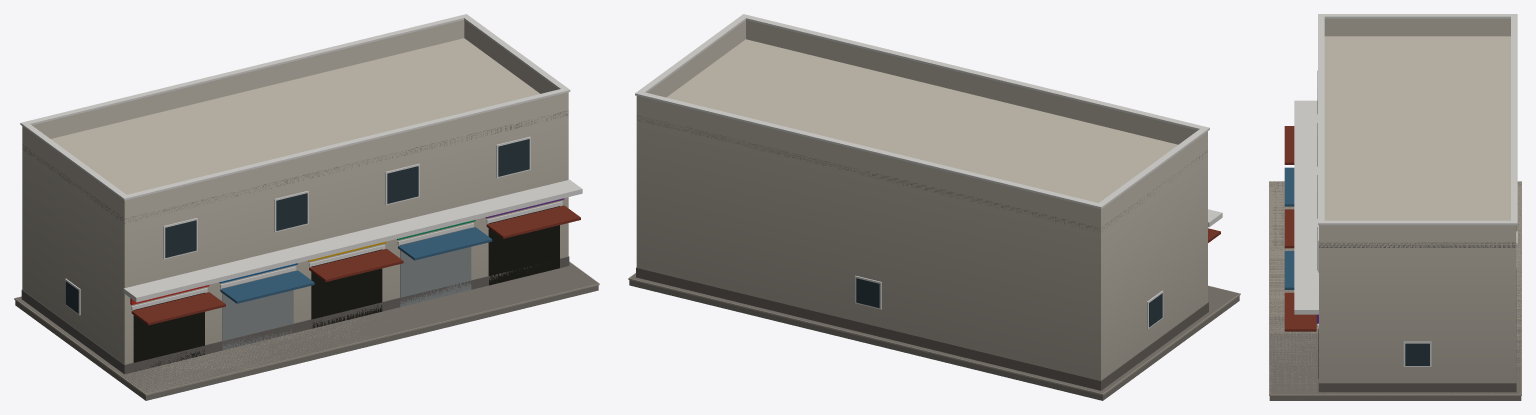
The model's file is ns_shops2_lod1.glb.
The picture shows the model from 3 angles, left to right: view 1: azimuth 30°, elevation 25°; view 2: azimuth 150°, elevation 25°; view 3: azimuth 270°, elevation 25°; orthographic projection. The views are drawn at different scales.
Parts seen in each view (by area): view 1: ns_shops2_lod1; view 2: ns_shops2_lod1; view 3: ns_shops2_lod1.
Boxes of the visible parts, x1=… form: ns_shops2_lod1: x1=14, y1=14, x2=599, y2=400; ns_shops2_lod1: x1=628, y1=14, x2=1240, y2=400; ns_shops2_lod1: x1=1269, y1=14, x2=1521, y2=400.
Bounding box in the file's own units: 20.46 × 7.88 × 10.26.
